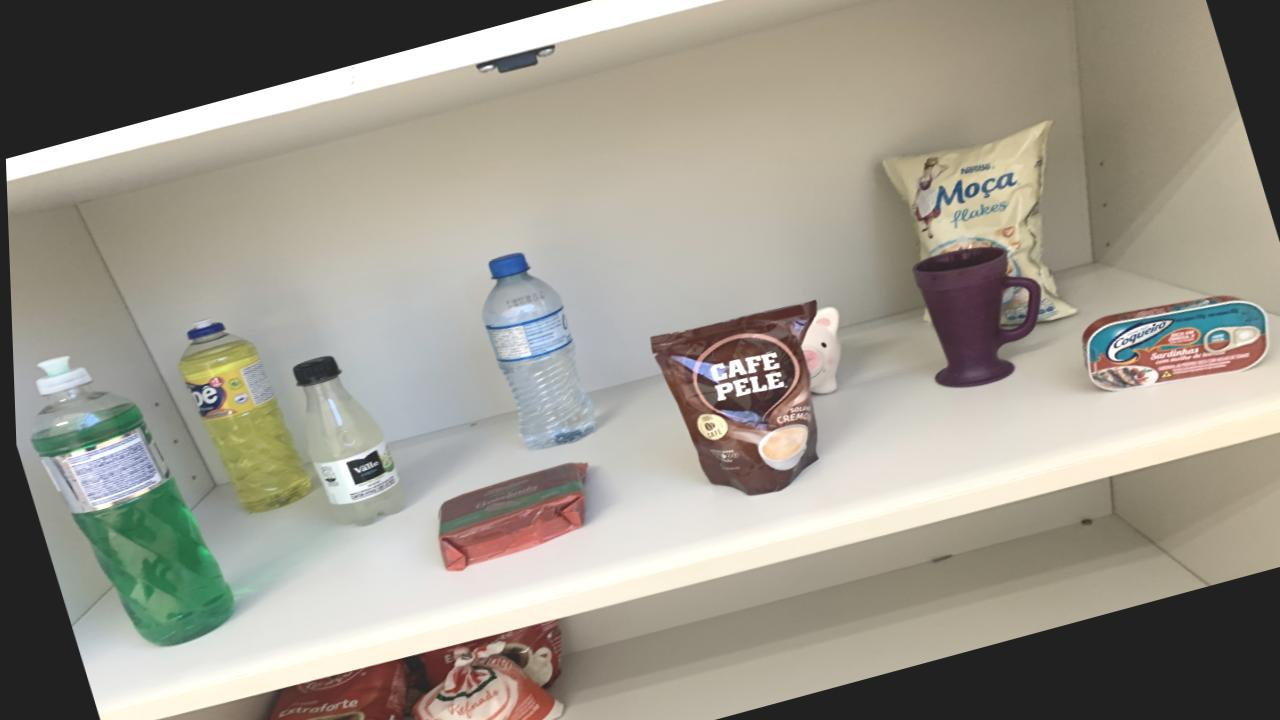Coffee-Pantry_Items: (648, 301, 815, 495)
Detergent-Cleanup_Items: (27, 356, 229, 646), (175, 320, 308, 513)
Flakes-Snacks: (881, 120, 1073, 322)
Pig_Safe-Miscellaneous: (799, 306, 839, 394)
Soda-Drinks: (291, 355, 401, 526)
Tuna_Can-Pantry_Items: (1079, 295, 1267, 391)
Water_Bottle-Drinks: (479, 253, 592, 449)
